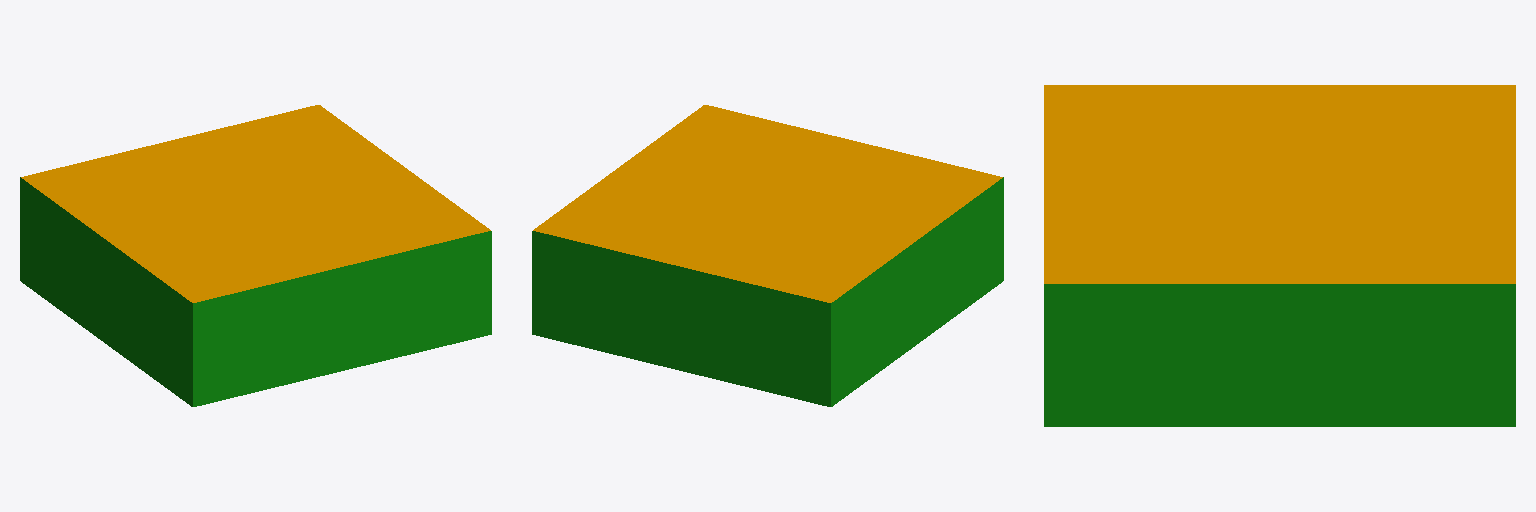
The robot description file, URDF, robot "aruco0":
<?xml version="1.0" ?>
<robot name="aruco0">
  <link name="aruco0">
    <inertial>
      <origin xyz="0 0 0" />
      <mass value="0.1" />
      <inertia  ixx="0.0001" ixy="0"  ixz="0"  iyy="0.0001"  iyz="0"  izz="0.0001" />
    </inertial>
    <visual>
      <origin xyz="0 0 0"/>

      <geometry>
        <mesh filename="package://recon_sim/meshes/aruco0.dae"/>
      </geometry>
    </visual>
    <collision>
      <origin xyz="0 0 0"/>
      <geometry>
	<box size="0.06 0.06 0.02" /> 
        <!-- <mesh filename="package://demo_world/urdf/aruco0.dae"/> -->
      </geometry>
      <surface>
      <contact>
      <ode>
        <min_depth>0.001</min_depth>
      </ode>
    </contact>
  </surface>
    </collision>
  </link>
  <gazebo reference="my_box">
    <!-- <material>Gazebo/Blue</material> -->
  </gazebo>
</robot>

--- Facts derived from the render (not from the file) ---
3 views of the same robot in one strip: view 1: azimuth 30°, elevation 25°; view 2: azimuth 150°, elevation 25°; view 3: azimuth 270°, elevation 25° (orthographic).
Robot: aruco0 — 1 links, 0 joints (none); root link aruco0; default pose: every joint at zero.
Links seen in each view (by area): view 1: aruco0; view 2: aruco0; view 3: aruco0.
Link boxes in pixels (box(x1,y1,x2,y2)): aruco0: box(20, 105, 491, 406); aruco0: box(532, 105, 1003, 406); aruco0: box(1044, 85, 1515, 426).
Size in the robot's own frame: 0.06 by 0.06 by 0.02 metres.
Meshes: 1 distinct files referenced, 1 mesh visuals loaded (1 Collada DAE).